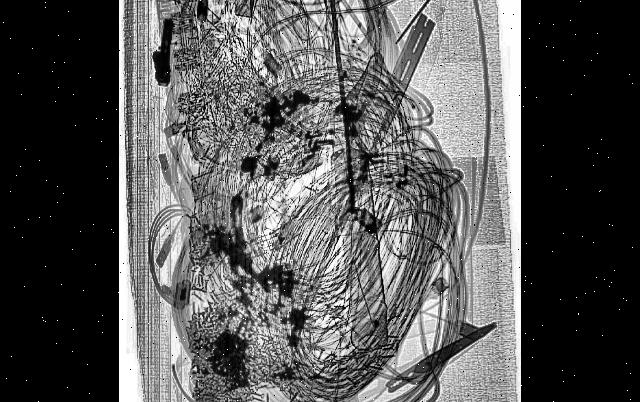Gun: (152, 12, 176, 86)
